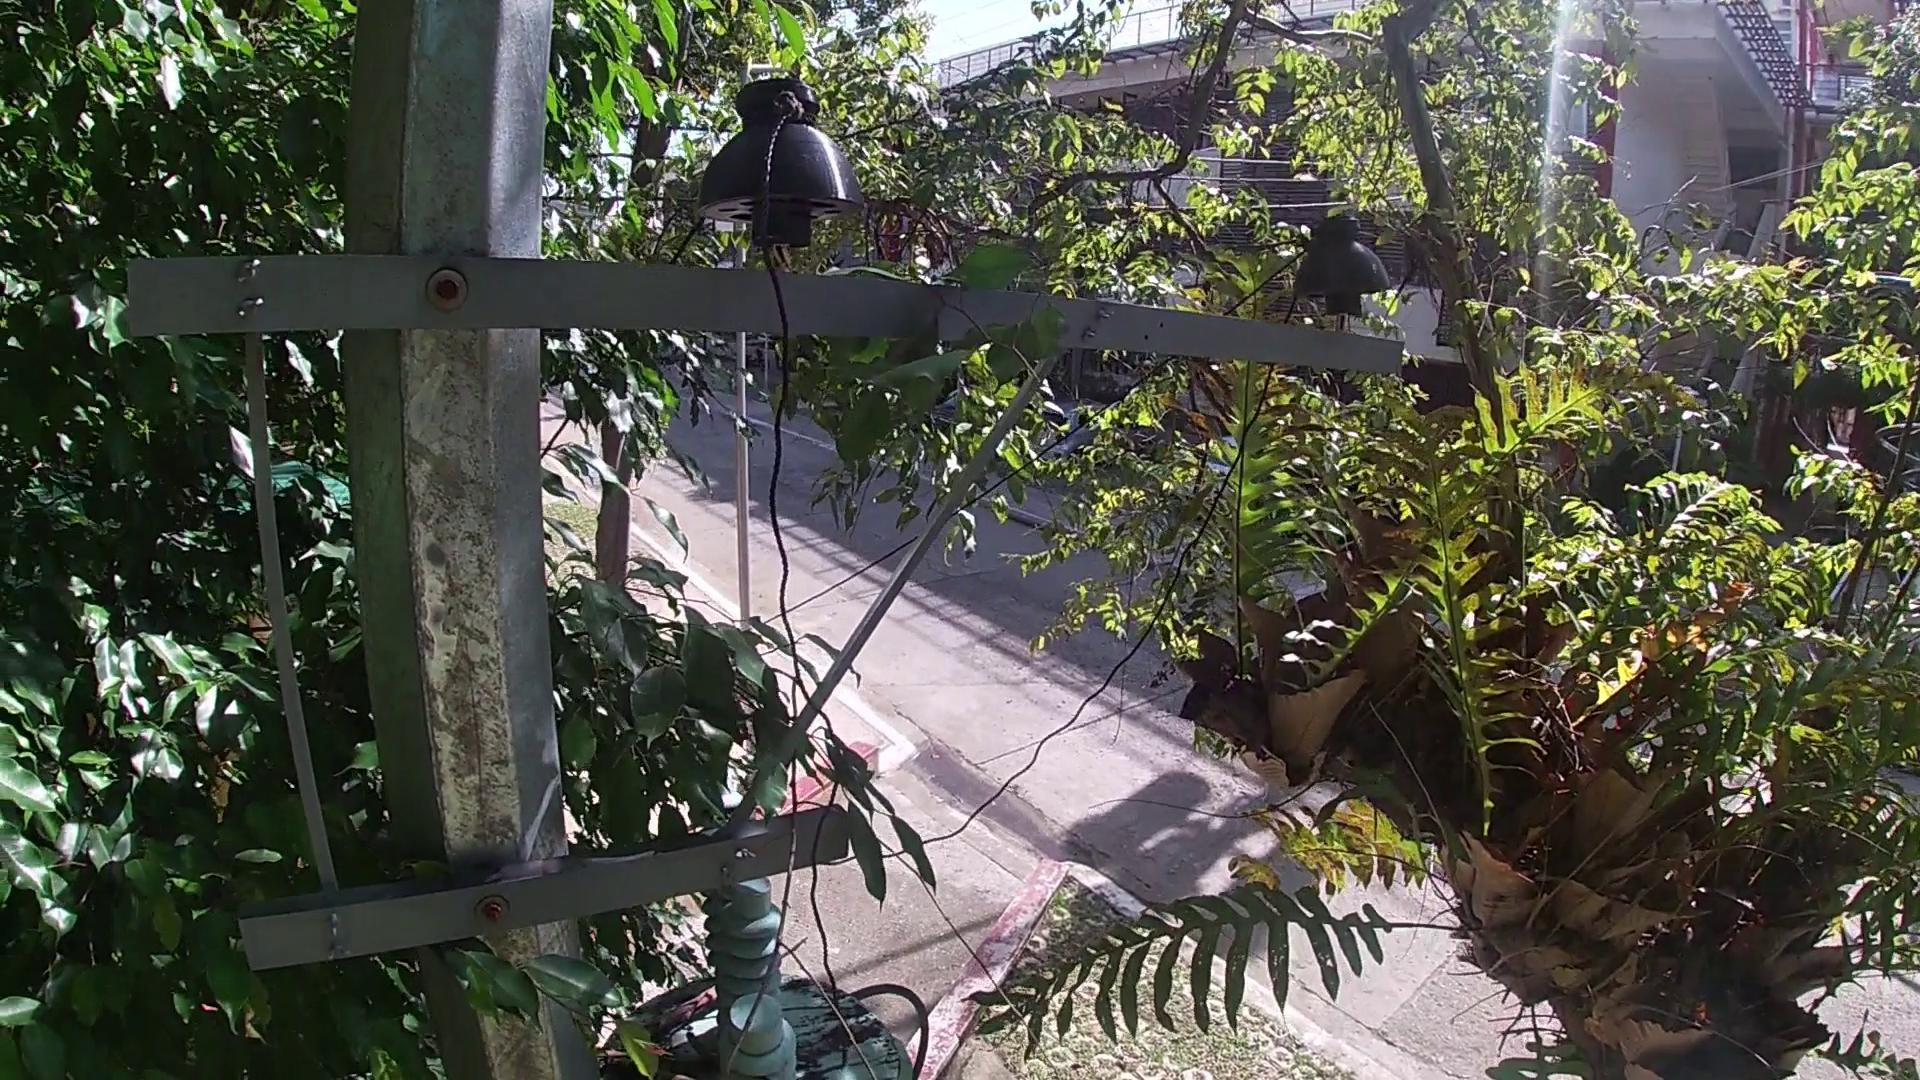tree branch: (742, 667, 1065, 1069), (636, 975, 720, 1040)
